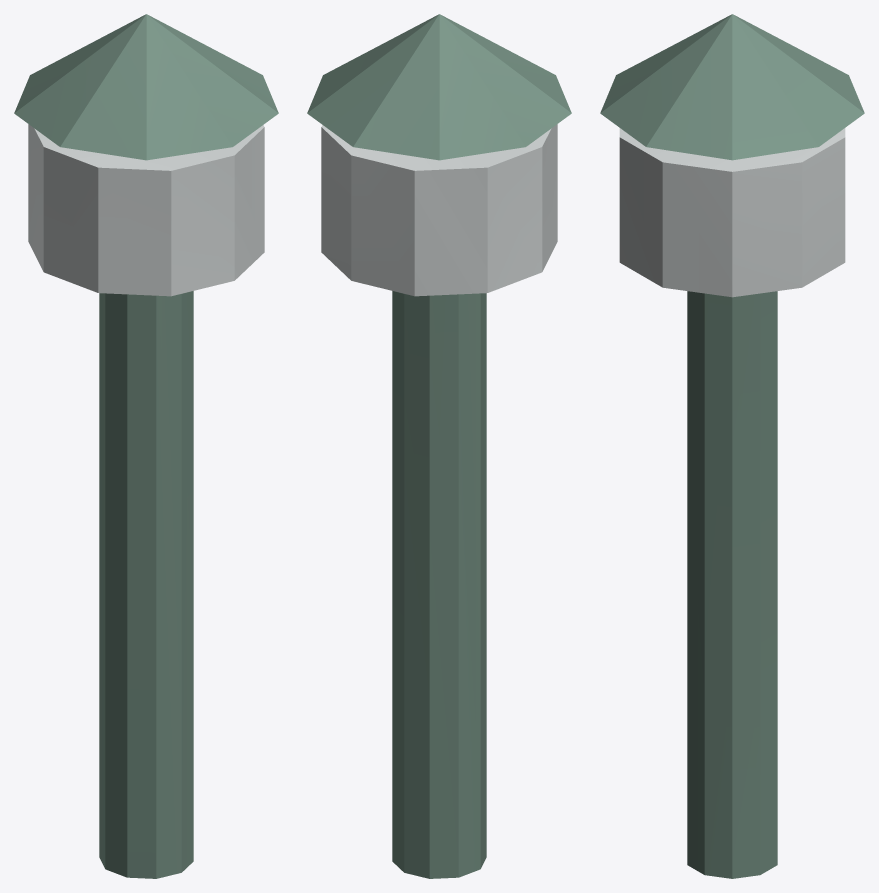
File: lighthouse-08.glb
3 views of the same model, side by side, from view 1: azimuth 30°, elevation 25°; view 2: azimuth 150°, elevation 25°; view 3: azimuth 270°, elevation 25° (orthographic).
Parts seen in each view (by area): view 1: world; view 2: world; view 3: world.
Part boxes in pixels (<box>): world: <box>14,14,278,878</box>; world: <box>307,14,571,878</box>; world: <box>600,14,864,878</box>.
Bounding box in the file's own units: 0.6595 × 2.36 × 0.6697.
